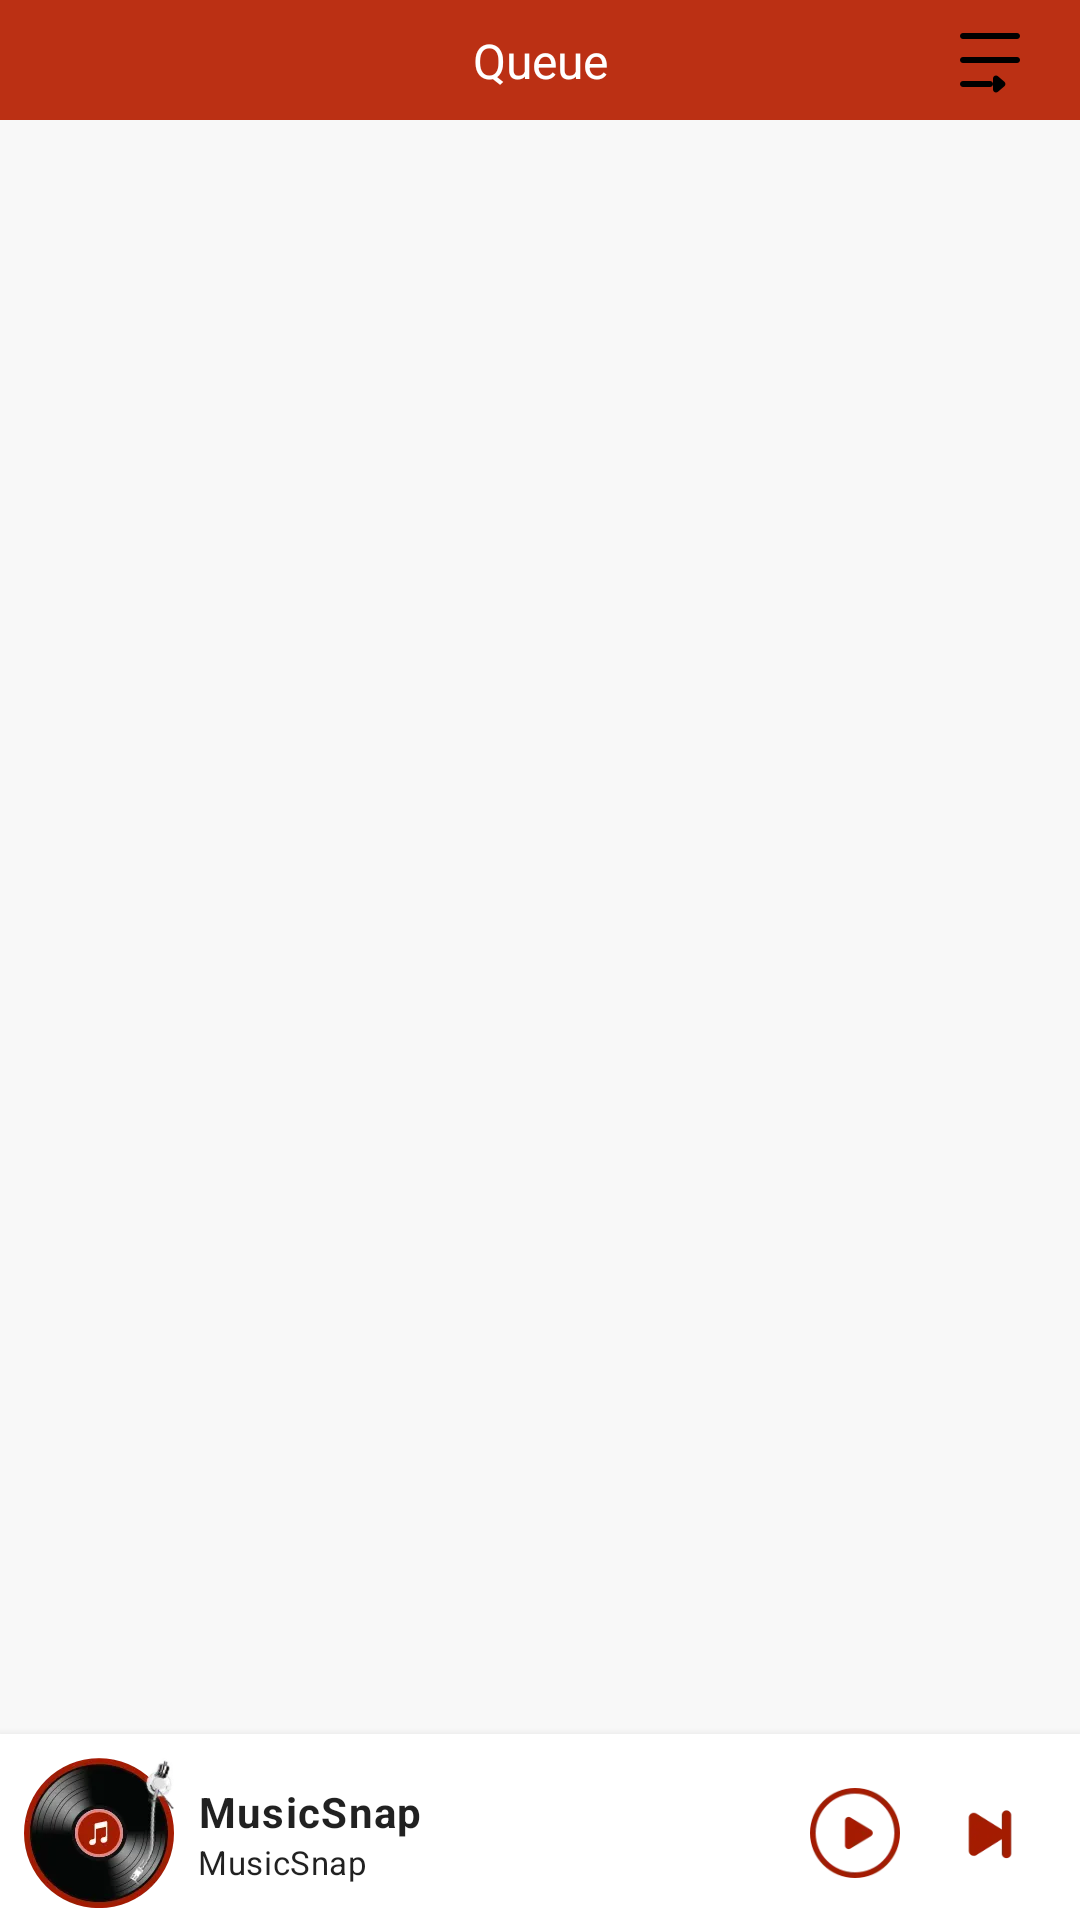

Icon click points for this 1080x1920 phone screenshot, format (x=x, y=y):
next: (x=990, y=1834)
play: (x=855, y=1833)
player lists: (x=990, y=63)
